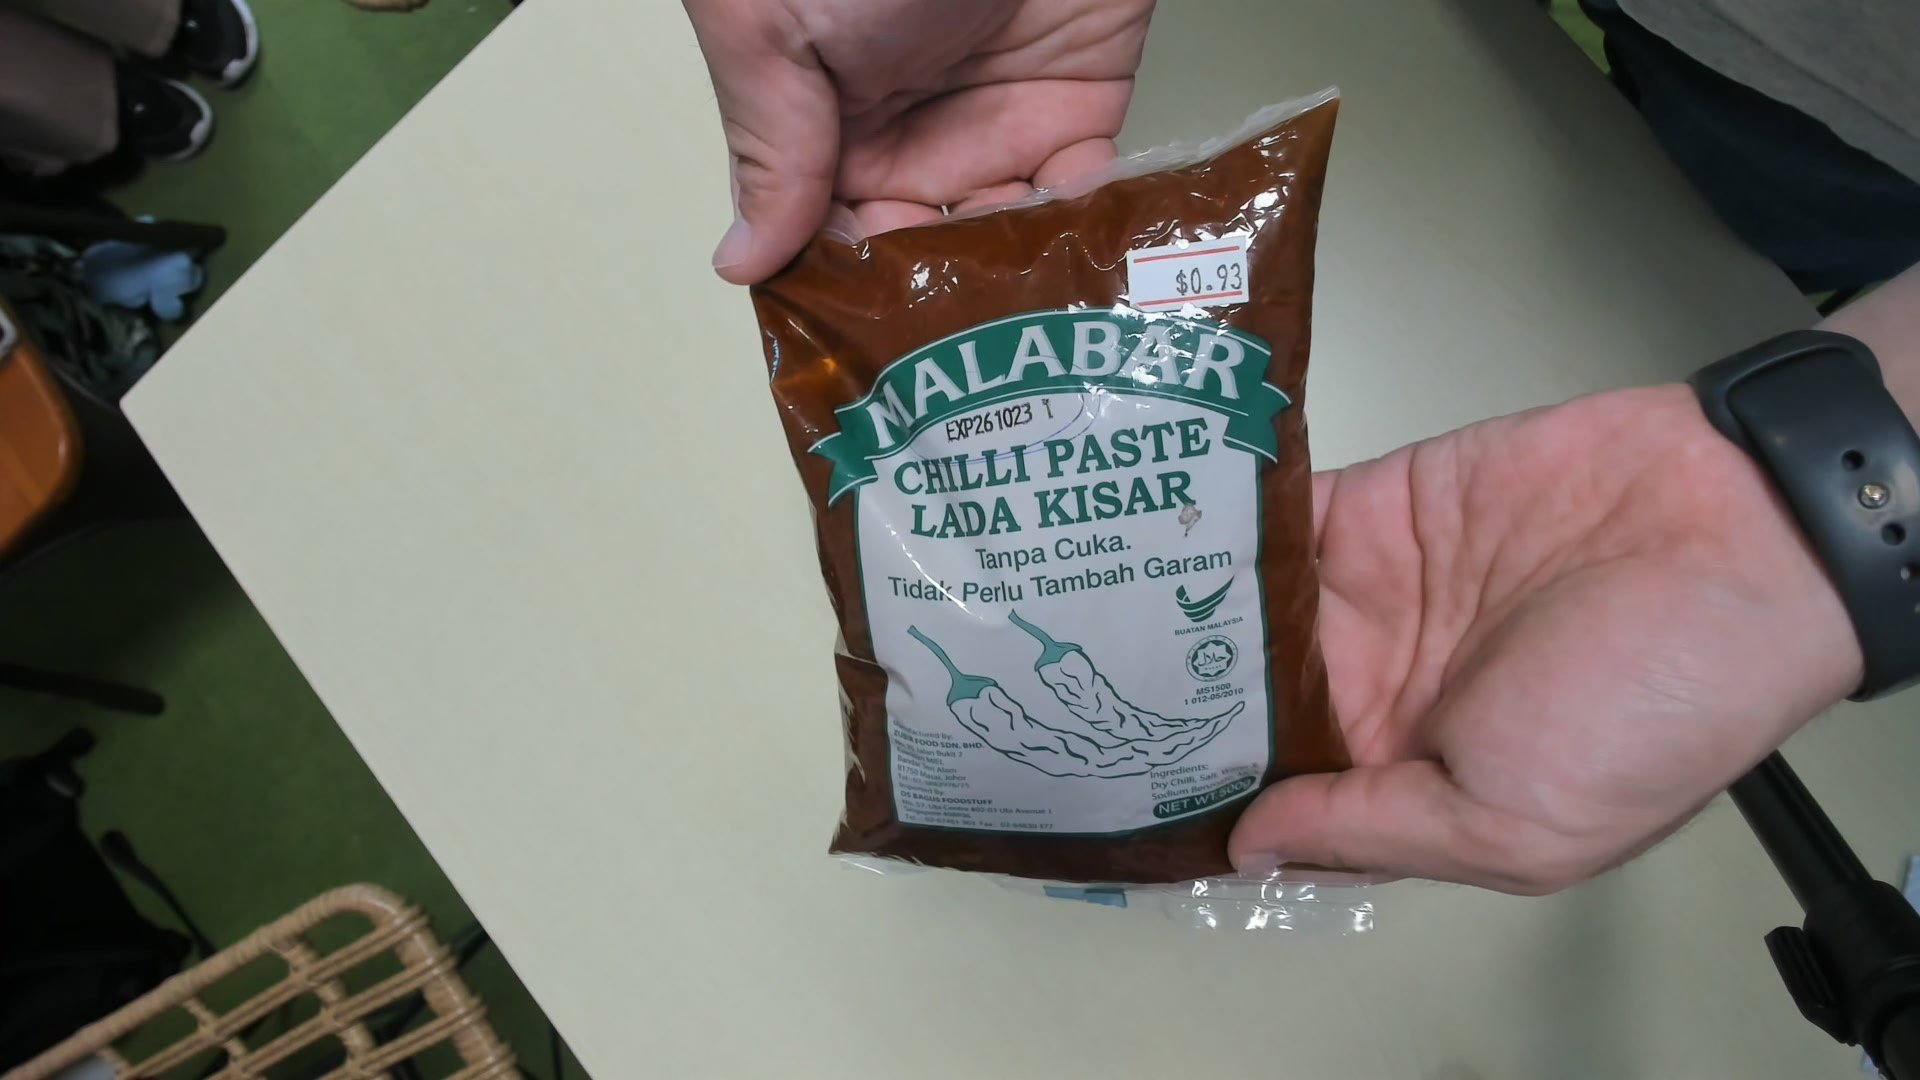OtherSauceDressingSoupbasePaste_500-599g_Halal_NonHealthy: (762, 100, 1369, 920)
